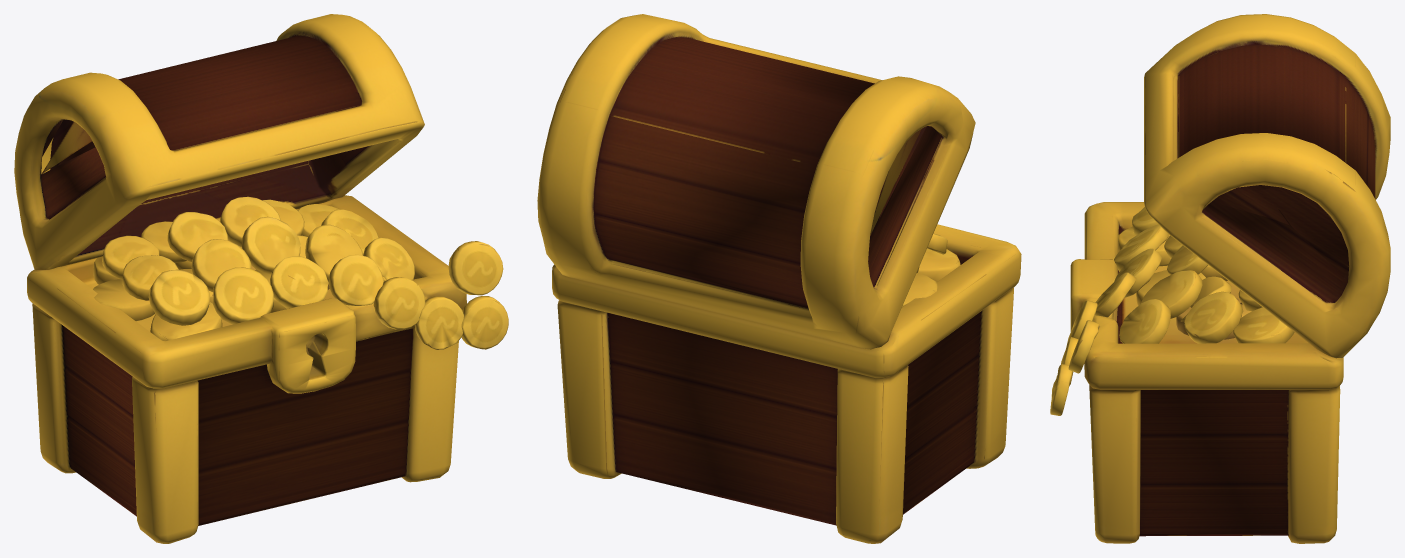
The model's file is robux_coins_chest.glb.
3 views of the same model, side by side, from view 1: azimuth 30°, elevation 25°; view 2: azimuth 150°, elevation 25°; view 3: azimuth 270°, elevation 25° (orthographic). The views are drawn at different scales.
Size of the model in its own units: 0.8696 by 0.9521 by 0.7402.
Materials: 1 (1 with a texture image).
